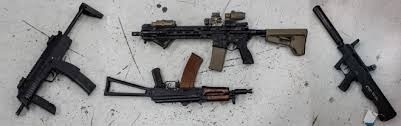pistol: (310, 5, 397, 119), (17, 7, 109, 114), (125, 18, 311, 67), (98, 65, 264, 112)
